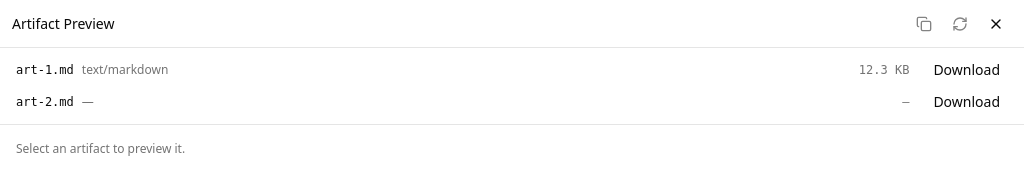
Test: ArtifactPreviewPanel › shows the selected artifact's identity in the toolbar
The image size is (1024, 194).
Click the button with test id "artifact-select" showing "art-1.md text/markdown 12.3 KB" at (45, 70), box 8,56 -> 917,84
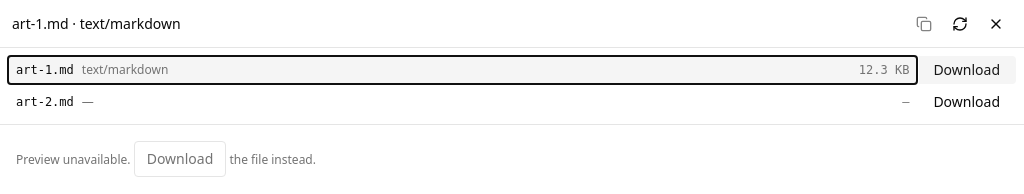
Result: the text with test id "preview-title" shows "text/markdown" at 12,14 -> 181,32
